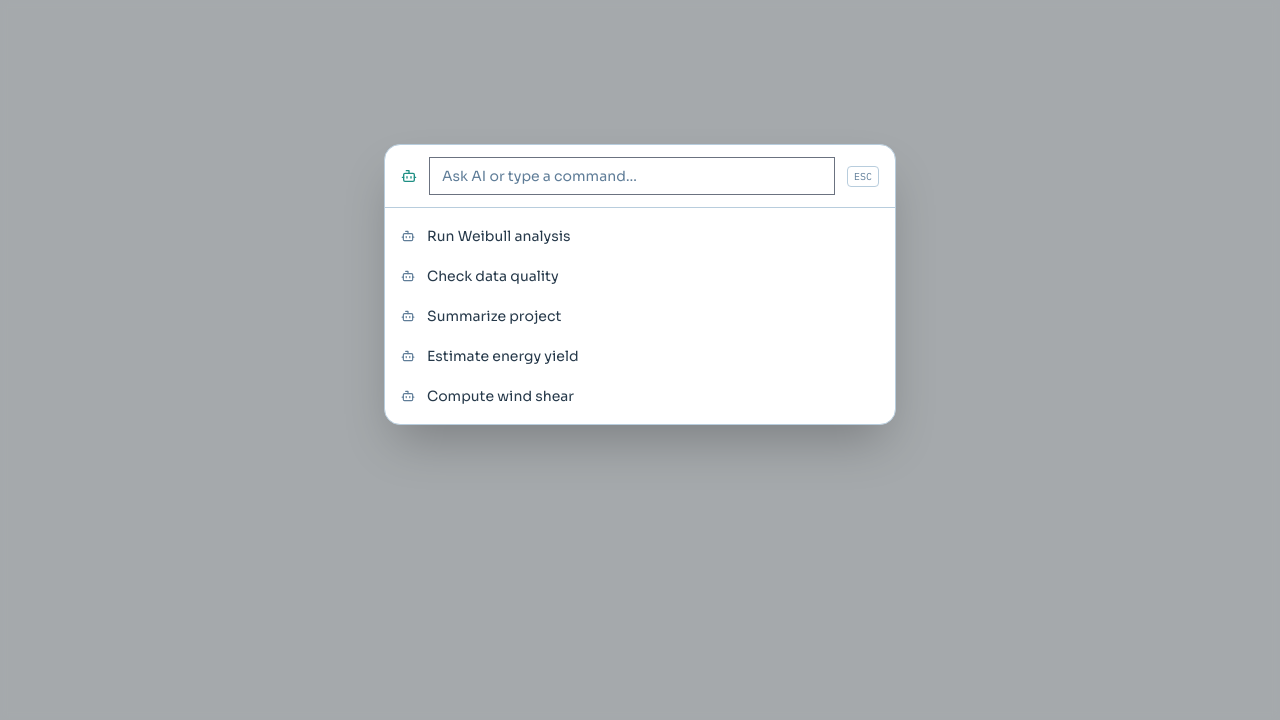
Test: CommandBar › filters quick actions on typing
In the field with placeholder "Ask AI or type a command…": (632, 176) [429,157,835,195], type "weibull"
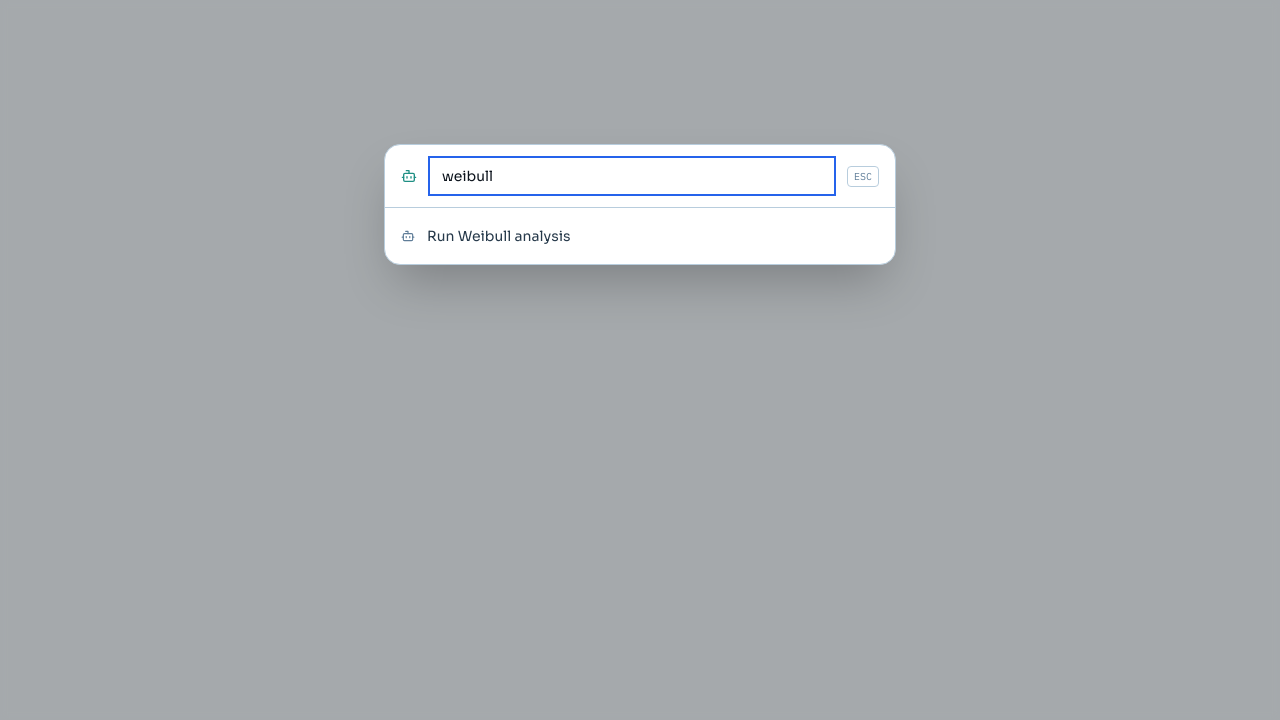
Check: the text "Run Weibull analysis" is shown, box [427,226,570,246]
Check: the button "Check data quality" is gone
